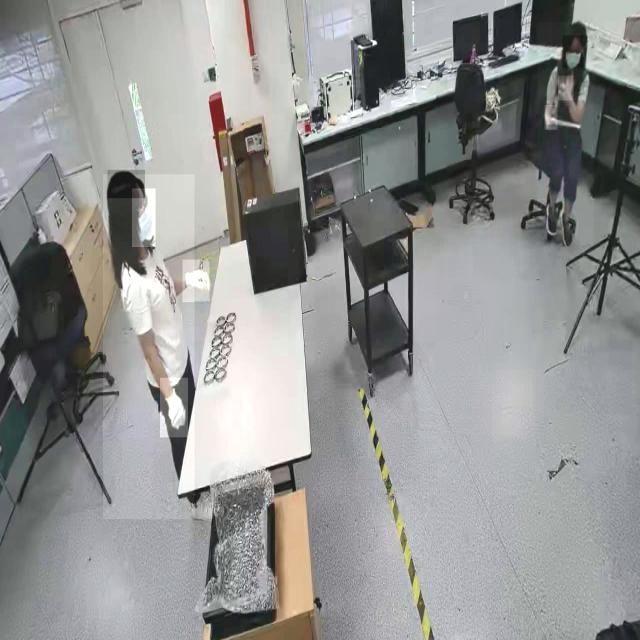face_mask: (132, 189, 156, 247), (562, 36, 584, 68)
hand_glove: (160, 378, 188, 438), (182, 260, 210, 302)
hand_noglove: (558, 76, 574, 102), (544, 105, 558, 131)
head_nohelmet: (107, 170, 145, 199), (564, 20, 588, 38)
person: (102, 174, 194, 520), (537, 22, 593, 246)
shoes: (186, 487, 214, 524), (560, 204, 578, 250), (544, 194, 560, 242)
